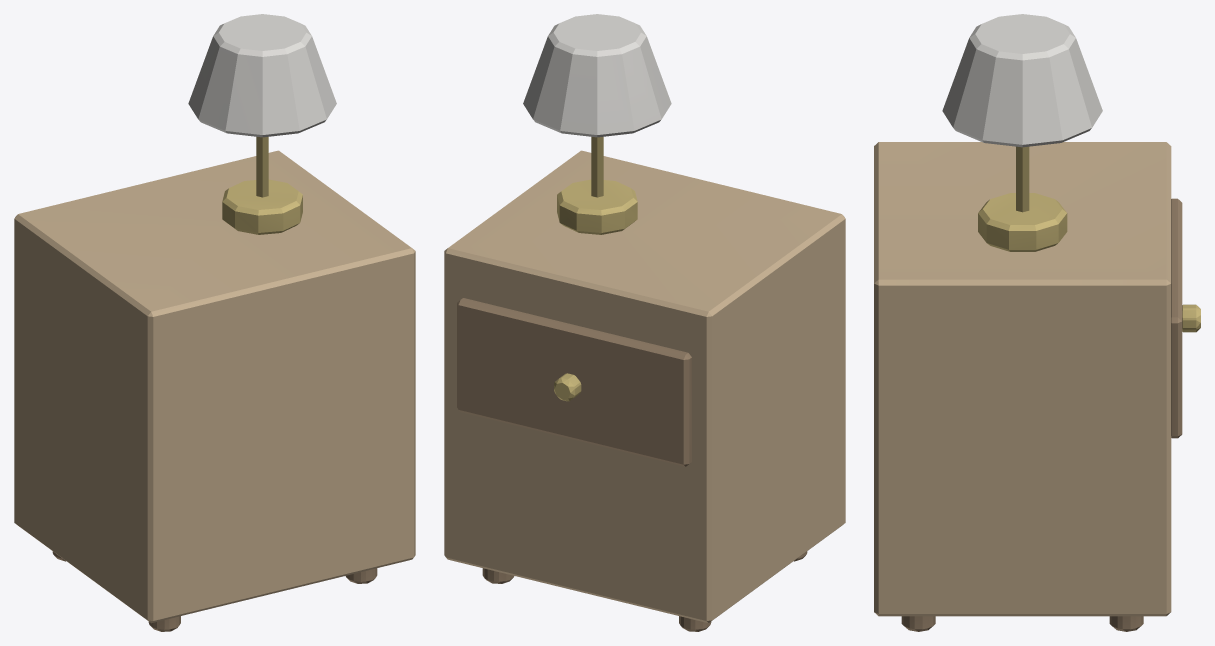
Rendered from furn_nightstand__oak.glb.
The picture shows the model from 3 angles, left to right: view 1: azimuth 30°, elevation 25°; view 2: azimuth 150°, elevation 25°; view 3: azimuth 270°, elevation 25°; orthographic projection. The views are drawn at different scales.
Size of the model in its own units: 0.45 by 0.84 by 0.44.
